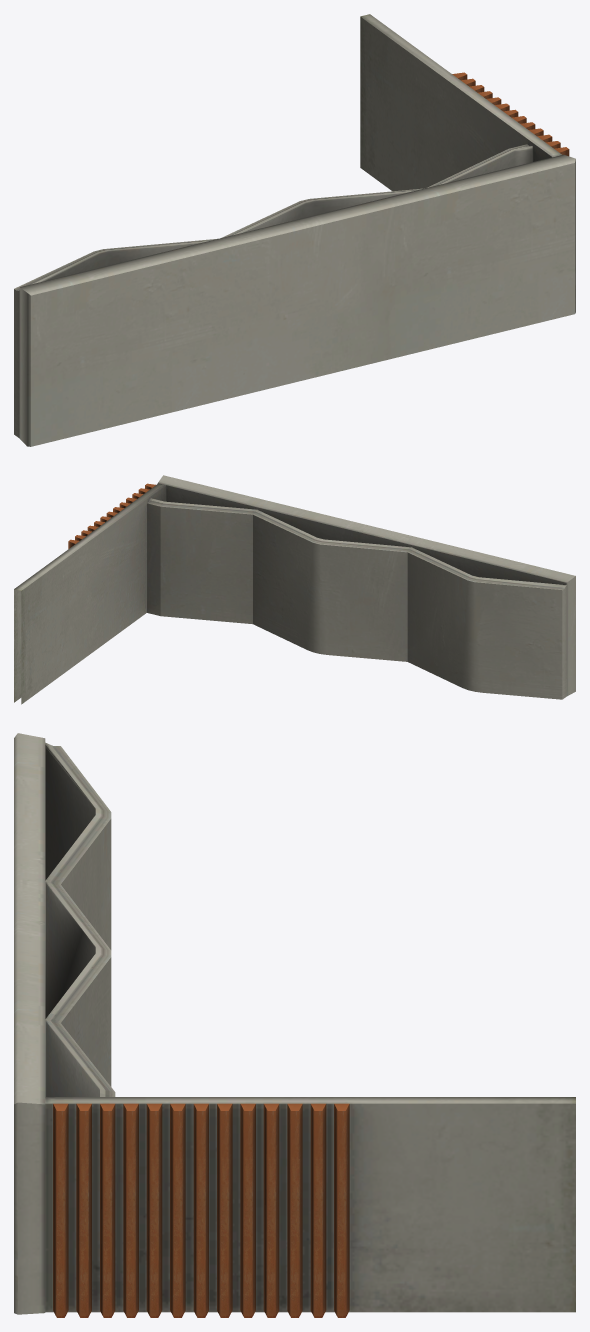
File: nt_rooftop_overhang_LOD1.obj
3 views of the same model, one above another, from view 1: azimuth 30°, elevation 25°; view 2: azimuth 150°, elevation 25°; view 3: azimuth 270°, elevation 25° (orthographic). The views are drawn at different scales.
Visible parts, largest first — view 1: mtl_nt_rooftop_overhang; view 2: mtl_nt_rooftop_overhang; view 3: mtl_nt_rooftop_overhang.
Part boxes in pixels (x1,y1,x2,y2): mtl_nt_rooftop_overhang: (14, 14, 575, 446); mtl_nt_rooftop_overhang: (14, 475, 575, 704); mtl_nt_rooftop_overhang: (14, 733, 575, 1317).
Bounding box in the file's own units: 577 × 152 × 366.
